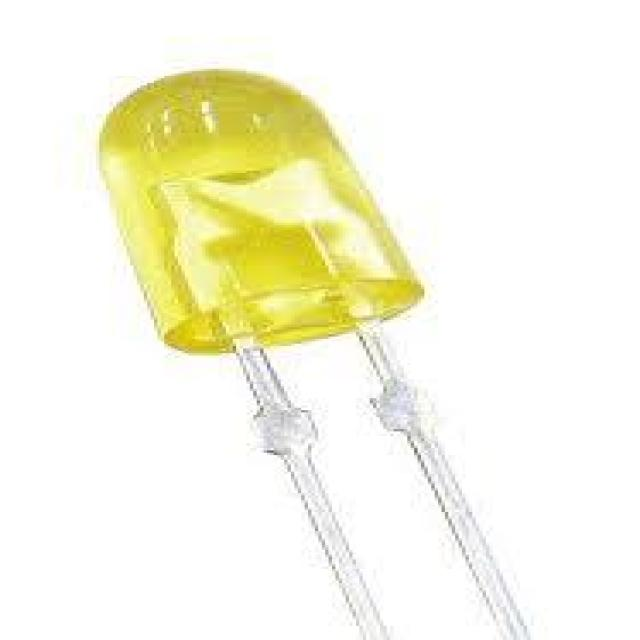Led: (99, 70, 531, 640)
